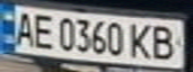0: (106, 19, 127, 57), (54, 15, 75, 52)
3: (72, 16, 93, 54)
6: (90, 18, 109, 56)
A: (9, 8, 36, 47)
B: (148, 21, 184, 62)
E: (30, 11, 57, 50)
K: (127, 20, 157, 61)
